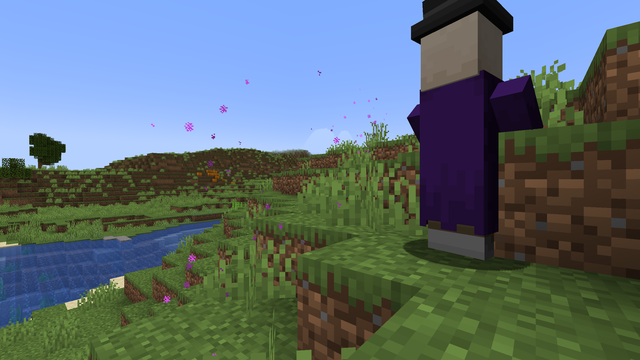sorcieres: (413, 1, 505, 267)
